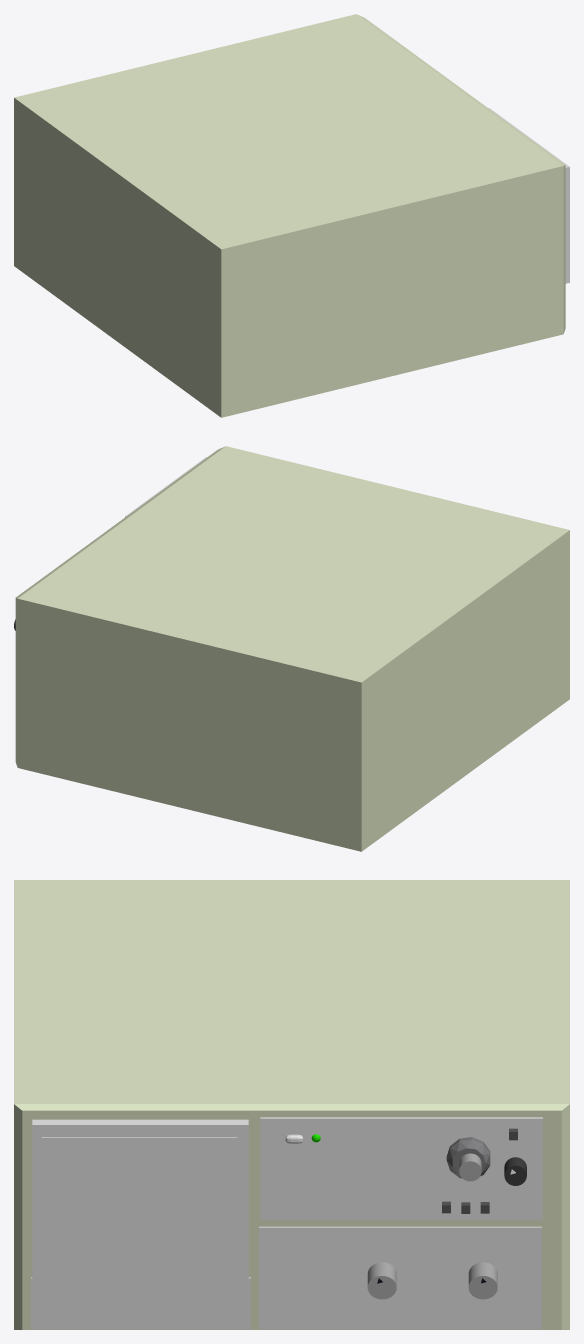
File: cro.fbx
3 renders of one model, top to bottom at view 1: azimuth 30°, elevation 25°; view 2: azimuth 150°, elevation 25°; view 3: azimuth 270°, elevation 25°, orthographic. The views are drawn at different scales.
Visible parts, largest first — view 1: Cube, Cube.001; view 2: Cube; view 3: Cube, Cube.004, Cube.003, Cube.002, Cube.005, Cube.001, Cylinder, Cylinder.006, Cylinder.003, Cylinder.001.
Part boxes in pixels (box(x1,y1,x2,y2)): Cube: box(14, 14, 565, 417); Cube.001: box(488, 108, 569, 283); Cube: box(15, 446, 569, 851); Cube: box(14, 880, 569, 1329); Cube.004: box(259, 1226, 541, 1329); Cube.003: box(260, 1117, 542, 1220); Cube.002: box(42, 1137, 237, 1265); Cube.005: box(31, 1277, 250, 1329); Cube.001: box(32, 1119, 248, 1280); Cylinder: box(446, 1137, 490, 1178); Cylinder.006: box(468, 1262, 497, 1299); Cylinder.003: box(367, 1262, 396, 1299); Cylinder.001: box(459, 1153, 481, 1181).
Size of the model in its own units: 460 by 200 by 446.
